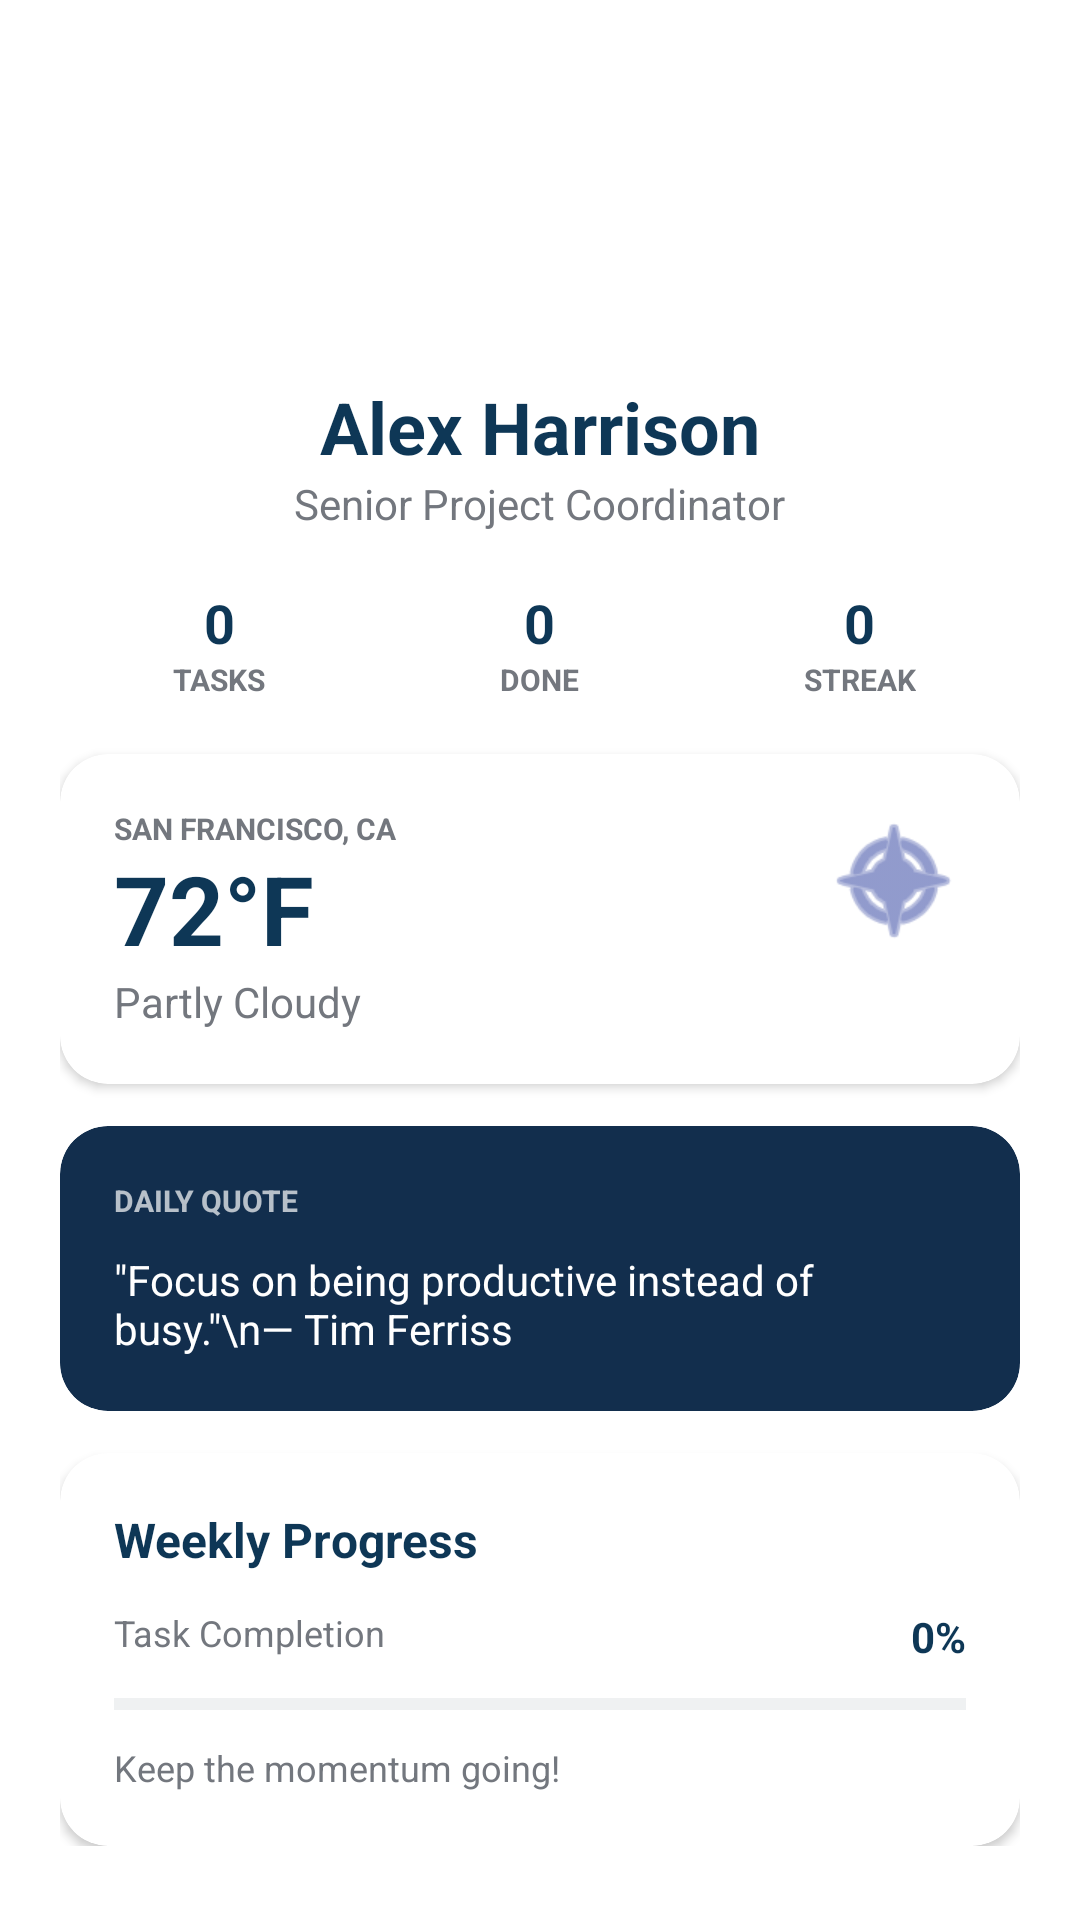

Point at icon controls on the screen. Image size 1080 × 1920, points as [x,y].
compass: [893,880]
